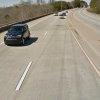Car: (3, 17, 37, 50)
